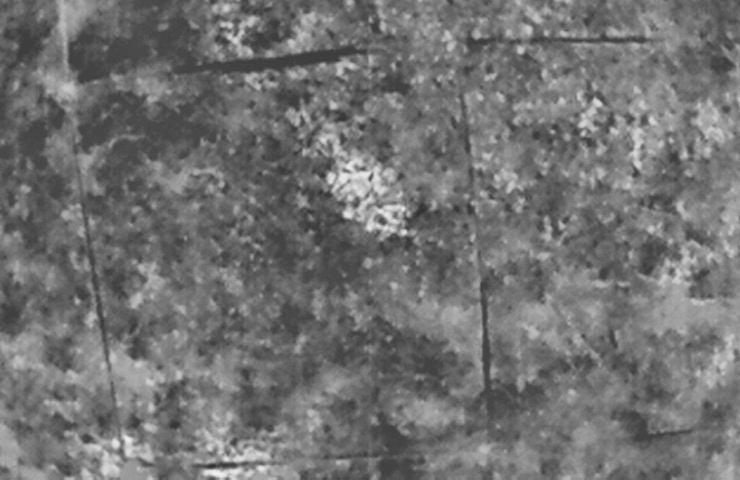landmines: (325, 148, 415, 238)
